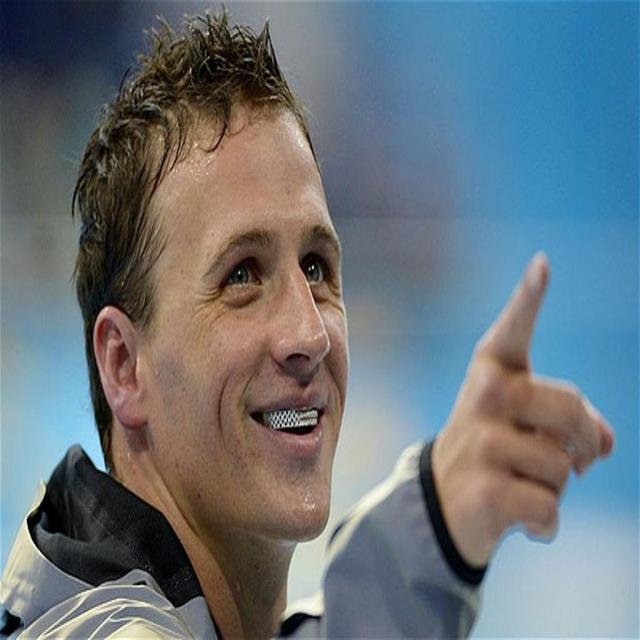Face: (126, 100, 354, 555)
